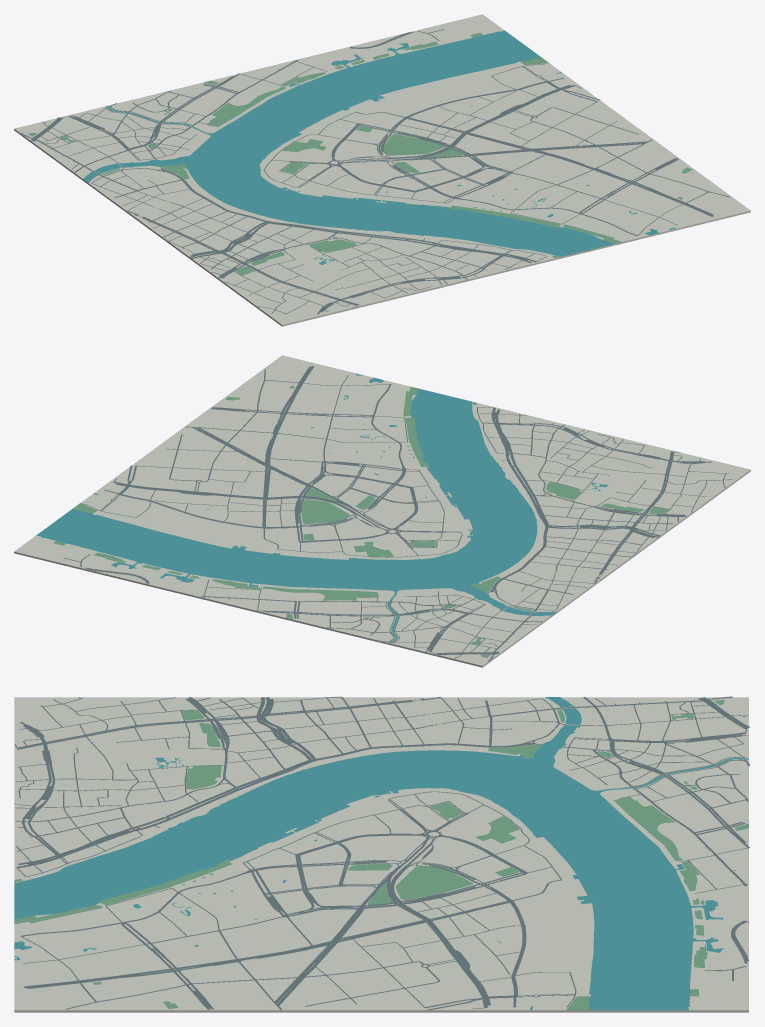
File: river-roads-parks.glb
3 views of the same model, one above another, from view 1: azimuth 30°, elevation 25°; view 2: azimuth 150°, elevation 25°; view 3: azimuth 270°, elevation 25° (orthographic). The views are drawn at different scales.
Parts seen in each view (by area): view 1: terrain-base, huangpu-suzhou-water, street-network, street-sidewalks, riverside-parks; view 2: terrain-base, huangpu-suzhou-water, street-network, street-sidewalks, riverside-parks; view 3: terrain-base, huangpu-suzhou-water, street-network, street-sidewalks, riverside-parks.
Part boxes in pixels (bbox=[...]): terrain-base: bbox=[14, 14, 750, 326]; huangpu-suzhou-water: bbox=[83, 30, 675, 264]; street-network: bbox=[19, 29, 730, 314]; street-sidewalks: bbox=[19, 29, 730, 314]; riverside-parks: bbox=[28, 32, 692, 274]; terrain-base: bbox=[14, 355, 750, 667]; huangpu-suzhou-water: bbox=[36, 373, 607, 643]; street-network: bbox=[64, 366, 732, 661]; street-sidewalks: bbox=[63, 366, 732, 661]; riverside-parks: bbox=[53, 386, 668, 657]; terrain-base: bbox=[14, 697, 748, 1012]; huangpu-suzhou-water: bbox=[14, 697, 748, 1010]; street-network: bbox=[15, 696, 749, 1010]; street-sidewalks: bbox=[14, 696, 750, 1010]; riverside-parks: bbox=[14, 700, 748, 1010].
Bounding box in the file's own units: 3516 × 13.15 × 3481.
